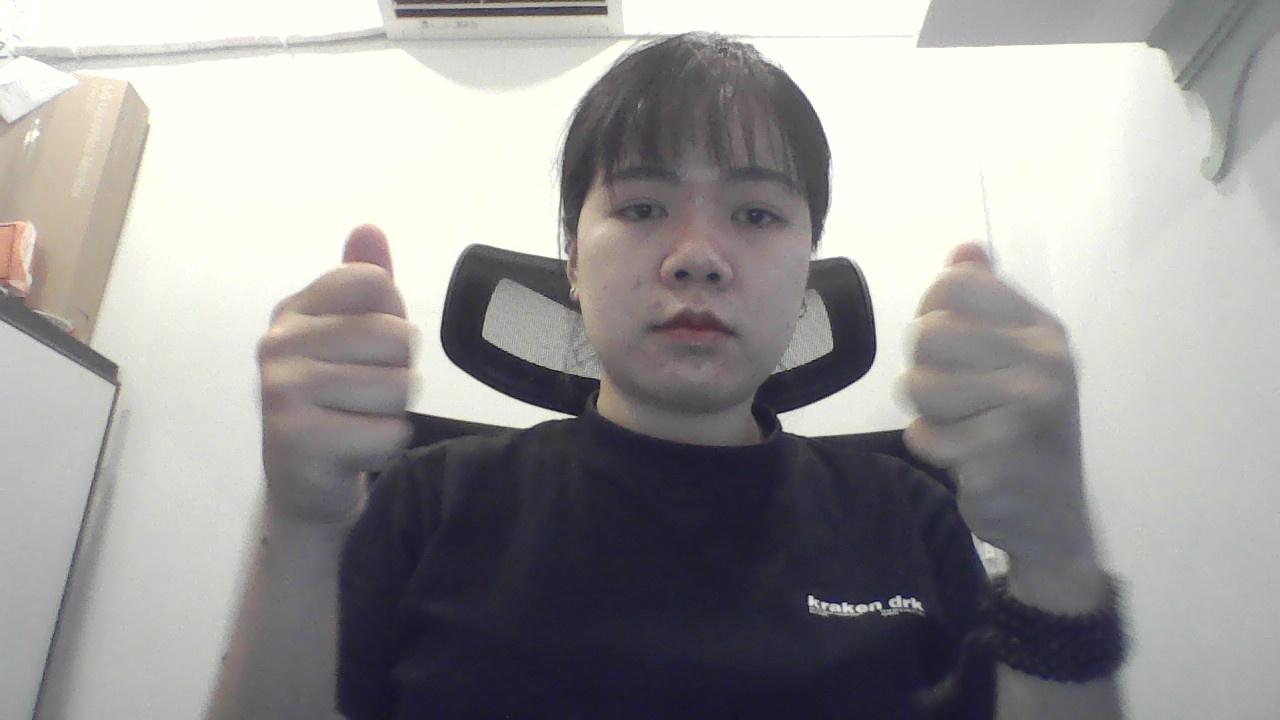A: (867, 227, 1131, 579), (243, 197, 442, 603)
